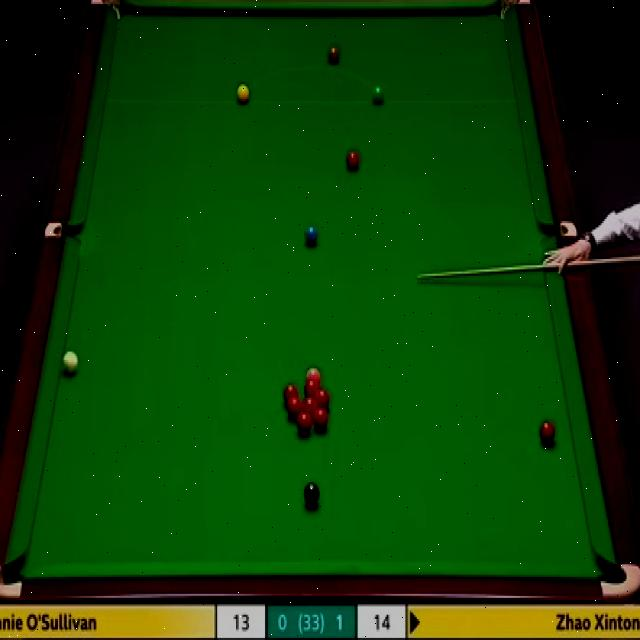black-ball: (303, 482, 320, 505)
blue-ball: (304, 225, 318, 245)
brown-ball: (327, 46, 339, 64)
green-ball: (370, 83, 385, 105)
pink-ball: (306, 366, 321, 383)
red-ball: (539, 420, 555, 444), (297, 413, 312, 435), (286, 397, 300, 420), (346, 150, 360, 172), (283, 384, 297, 406), (302, 400, 318, 419), (314, 410, 328, 430), (307, 380, 322, 397), (316, 390, 327, 409)
white-ball: (62, 350, 79, 374)
yellow-ball: (236, 84, 249, 104)
